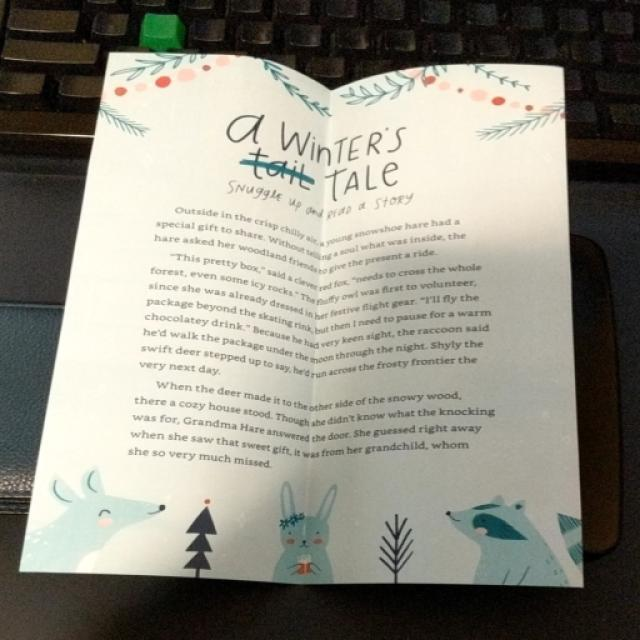document: (21, 54, 580, 586)
